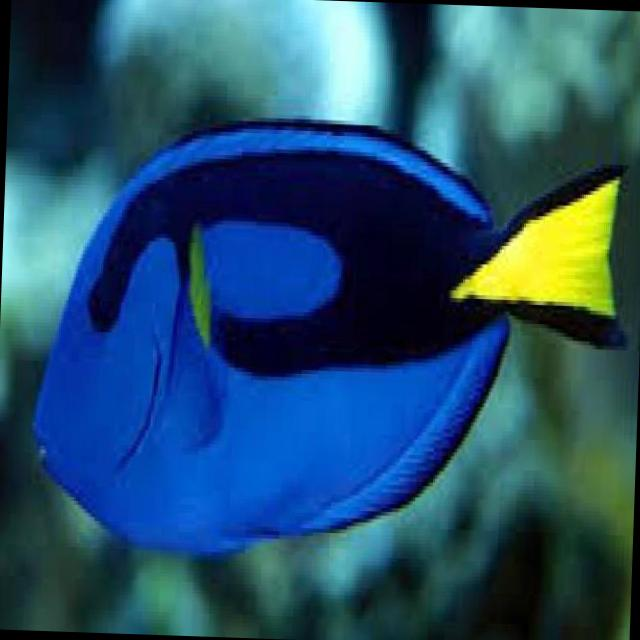TangFish: (20, 103, 626, 571)
